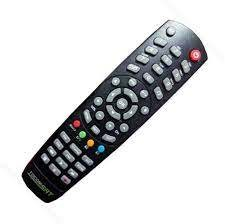remote control: (5, 10, 212, 208)
